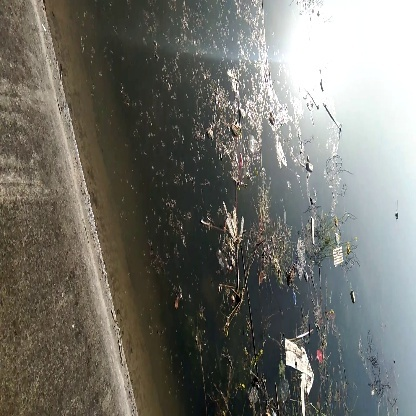plastic-bag: (281, 336, 318, 400)
